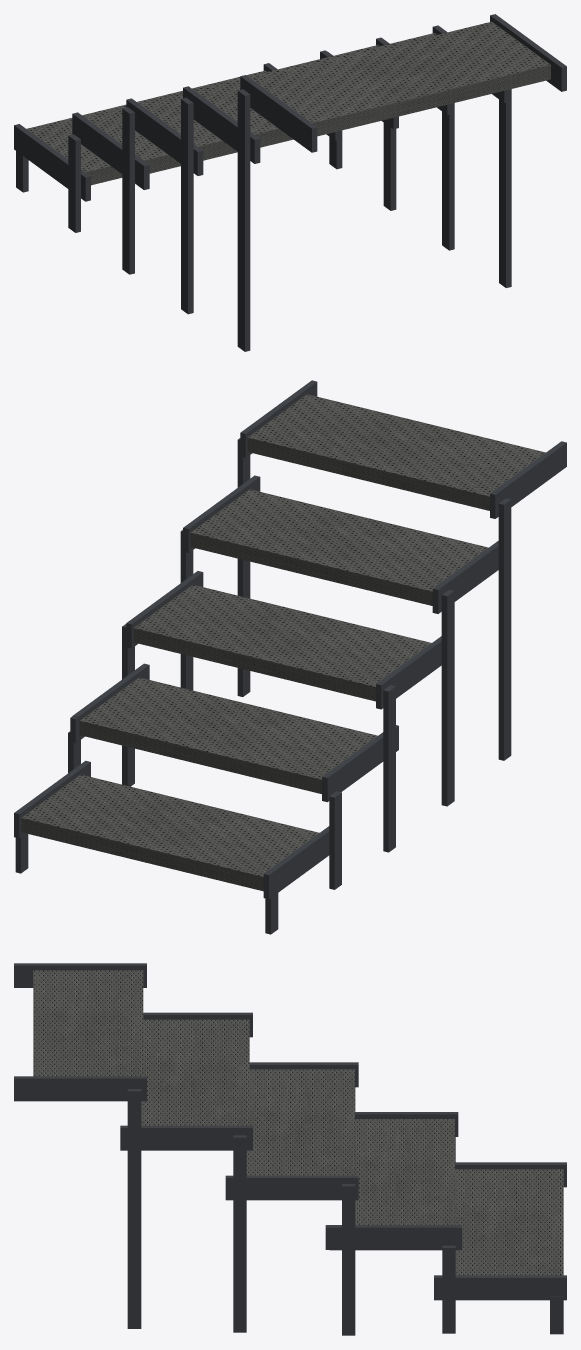
The model's file is Stairs.fbx.
3 views of the same model, one above another, from view 1: azimuth 30°, elevation 25°; view 2: azimuth 150°, elevation 25°; view 3: azimuth 270°, elevation 25° (orthographic). The views are drawn at different scales.
Visible parts, largest first — view 1: Cube_11_2, Cube_13_2 (×2), Cube_29, Cube_26, Cube_35, Cube_12_2, Cube_15_2, Cube_20, Cube_27, Cube_16, Cube_18 (1), Cube_18 (+7 smaller); view 2: Cube_13_2 (×2), Cube_15_2, Cube_11_2, Cube_12_2, Cube_29, Cube_26, Cube_20, Cube_27, Cube_16, Cube_18 (1), Cube_19, Cube_18 (+9 smaller); view 3: Cube_13_2 (×2), Cube_11_2, Cube_15_2, Cube_12_2, Cube_35, Cube_21, Cube_25, Cube_23, Cube_22, Cube_34, Cube_24, Cube_33 (+8 smaller).
Part boxes in pixels (left/top/right/bottom): Cube_11_2: left=253, top=21, right=550, bottom=136; Cube_13_2 (×2): left=85, top=45, right=378, bottom=173; Cube_29: left=237, top=89, right=250, bottom=351; Cube_26: left=181, top=97, right=193, bottom=314; Cube_35: left=499, top=89, right=511, bottom=287; Cube_12_2: left=196, top=33, right=436, bottom=147; Cube_15_2: left=27, top=70, right=266, bottom=185; Cube_20: left=240, top=75, right=317, bottom=152; Cube_27: left=122, top=107, right=134, bottom=274; Cube_16: left=14, top=124, right=90, bottom=201; Cube_18 (1): left=72, top=112, right=149, bottom=189; Cube_18: left=126, top=98, right=203, bottom=175; Cube_13_2 (×2): left=79, top=584, right=431, bottom=793; Cube_15_2: left=21, top=774, right=319, bottom=891; Cube_11_2: left=247, top=394, right=545, bottom=510; Cube_12_2: left=190, top=489, right=488, bottom=605; Cube_29: left=498, top=498, right=511, bottom=760; Cube_26: left=441, top=590, right=454, bottom=806; Cube_20: left=490, top=441, right=566, bottom=518; Cube_27: left=383, top=685, right=395, bottom=852; Cube_16: left=263, top=826, right=329, bottom=899; Cube_18 (1): left=322, top=725, right=398, bottom=802; Cube_19: left=432, top=541, right=498, bottom=613; Cube_18: left=376, top=636, right=441, bottom=709; Cube_13_2 (×2): left=246, top=1069, right=454, bottom=1224; Cube_11_2: left=33, top=970, right=143, bottom=1076; Cube_15_2: left=455, top=1169, right=563, bottom=1275; Cube_12_2: left=141, top=1019, right=249, bottom=1125; Cube_35: left=127, top=1089, right=141, bottom=1328; Cube_21: left=14, top=1076, right=146, bottom=1101; Cube_25: left=434, top=1275, right=566, bottom=1300; Cube_23: left=225, top=1175, right=358, bottom=1200; Cube_22: left=120, top=1125, right=252, bottom=1150; Cube_34: left=233, top=1135, right=246, bottom=1332; Cube_24: left=329, top=1225, right=462, bottom=1250; Cube_33: left=342, top=1184, right=355, bottom=1335.
Size of the model in its own units: 2.13 by 2.1 by 4.12.
